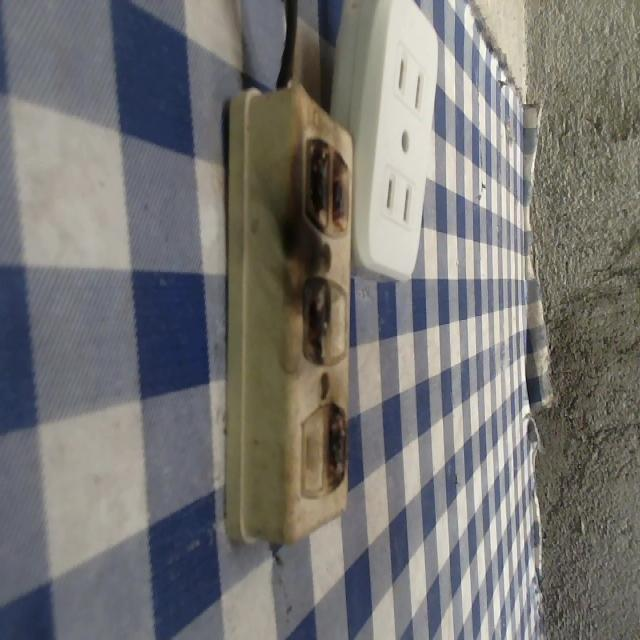-: (296, 132, 353, 240), (323, 398, 361, 493), (295, 272, 333, 365)
